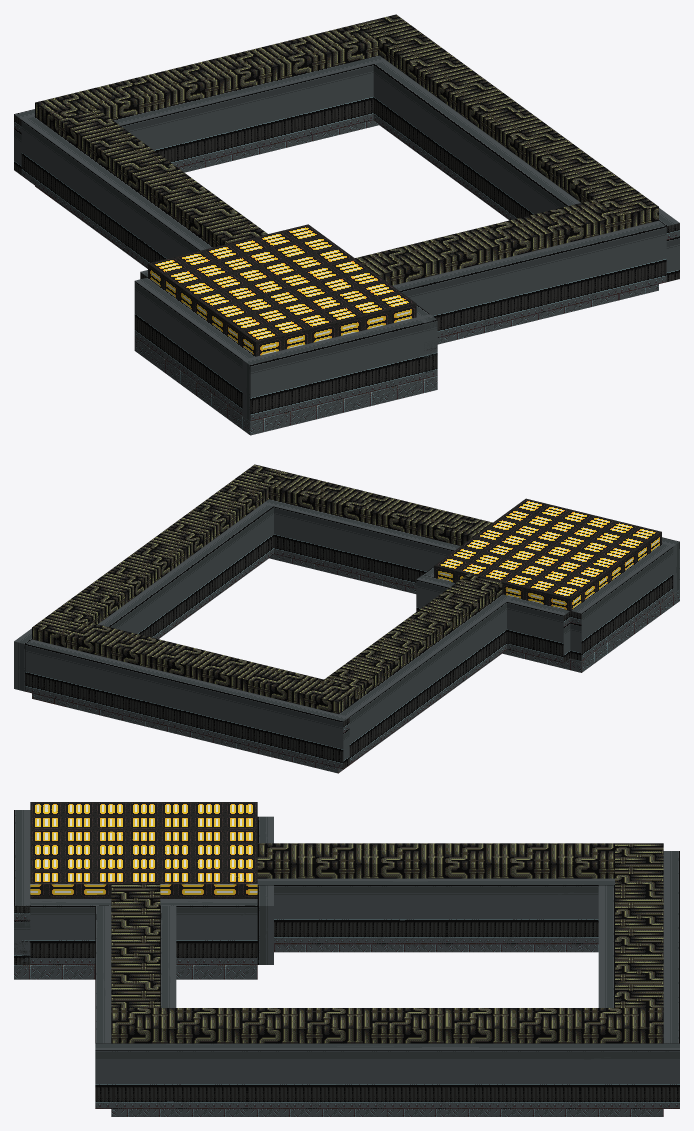
Rendered from trenchBoomMapTest.obj.
3 renders of one model, top to bottom at view 1: azimuth 30°, elevation 25°; view 2: azimuth 150°, elevation 25°; view 3: azimuth 270°, elevation 25°, orthographic. The views are drawn at different scales.
Visible parts, largest first — view 1: entity0_brush20, entity0_brush7, entity0_brush17, entity0_brush1, entity0_brush19, entity0_brush14, entity0_brush23, entity0_brush28, entity0_brush24, entity0_brush2, entity0_brush27, entity0_brush26 (+5 smaller); view 2: entity0_brush16, entity0_brush20, entity0_brush14, entity0_brush6, entity0_brush19, entity0_brush23, entity0_brush28, entity0_brush24, entity0_brush2, entity0_brush26, entity0_brush27, entity0_brush21 (+7 smaller); view 3: entity0_brush18, entity0_brush15, entity0_brush20, entity0_brush23, entity0_brush27, entity0_brush26, entity0_brush28, entity0_brush24, entity0_brush3, entity0_brush4, entity0_brush16, entity0_brush12 (+9 smaller).
Boxes of the visible parts, x1=… form: entity0_brush20: x1=148, y1=224, x2=416, y2=356; entity0_brush7: x1=392, y1=220, x2=666, y2=337; entity0_brush17: x1=113, y1=55, x2=386, y2=167; entity0_brush1: x1=242, y1=314, x2=437, y2=421; entity0_brush19: x1=373, y1=61, x2=580, y2=220; entity0_brush14: x1=21, y1=116, x2=213, y2=267; entity0_brush23: x1=58, y1=109, x2=267, y2=247; entity0_brush28: x1=355, y1=199, x2=618, y2=285; entity0_brush24: x1=129, y1=24, x2=379, y2=110; entity0_brush2: x1=134, y1=277, x2=255, y2=415; entity0_brush27: x1=487, y1=110, x2=658, y2=230; entity0_brush26: x1=356, y1=14, x2=527, y2=133; entity0_brush16: x1=25, y1=639, x2=349, y2=768; entity0_brush20: x1=434, y1=498, x2=661, y2=610; entity0_brush14: x1=338, y1=594, x2=512, y2=763; entity0_brush6: x1=263, y1=499, x2=460, y2=588; entity0_brush19: x1=98, y1=504, x2=273, y2=638; entity0_brush23: x1=324, y1=574, x2=502, y2=699; entity0_brush28: x1=269, y1=473, x2=492, y2=545; entity0_brush24: x1=66, y1=621, x2=278, y2=694; entity0_brush2: x1=570, y1=543, x2=673, y2=660; entity0_brush26: x1=32, y1=546, x2=177, y2=647; entity0_brush27: x1=144, y1=464, x2=288, y2=565; entity0_brush21: x1=507, y1=597, x2=570, y2=662; entity0_brush18: x1=95, y1=1043, x2=679, y2=1108; entity0_brush15: x1=257, y1=878, x2=614, y2=944; entity0_brush20: x1=30, y1=802, x2=257, y2=898; entity0_brush23: x1=257, y1=843, x2=614, y2=878; entity0_brush27: x1=111, y1=1008, x2=387, y2=1043; entity0_brush26: x1=387, y1=1008, x2=663, y2=1043; entity0_brush28: x1=111, y1=884, x2=160, y2=1007; entity0_brush24: x1=615, y1=891, x2=663, y2=1007; entity0_brush3: x1=160, y1=899, x2=257, y2=964; entity0_brush4: x1=14, y1=899, x2=111, y2=964; entity0_brush16: x1=663, y1=851, x2=679, y2=1043; entity0_brush12: x1=274, y1=944, x2=598, y2=952.
Bounding box in the file's own units: 560 × 96 × 656.
4 materials, 4 textured.
